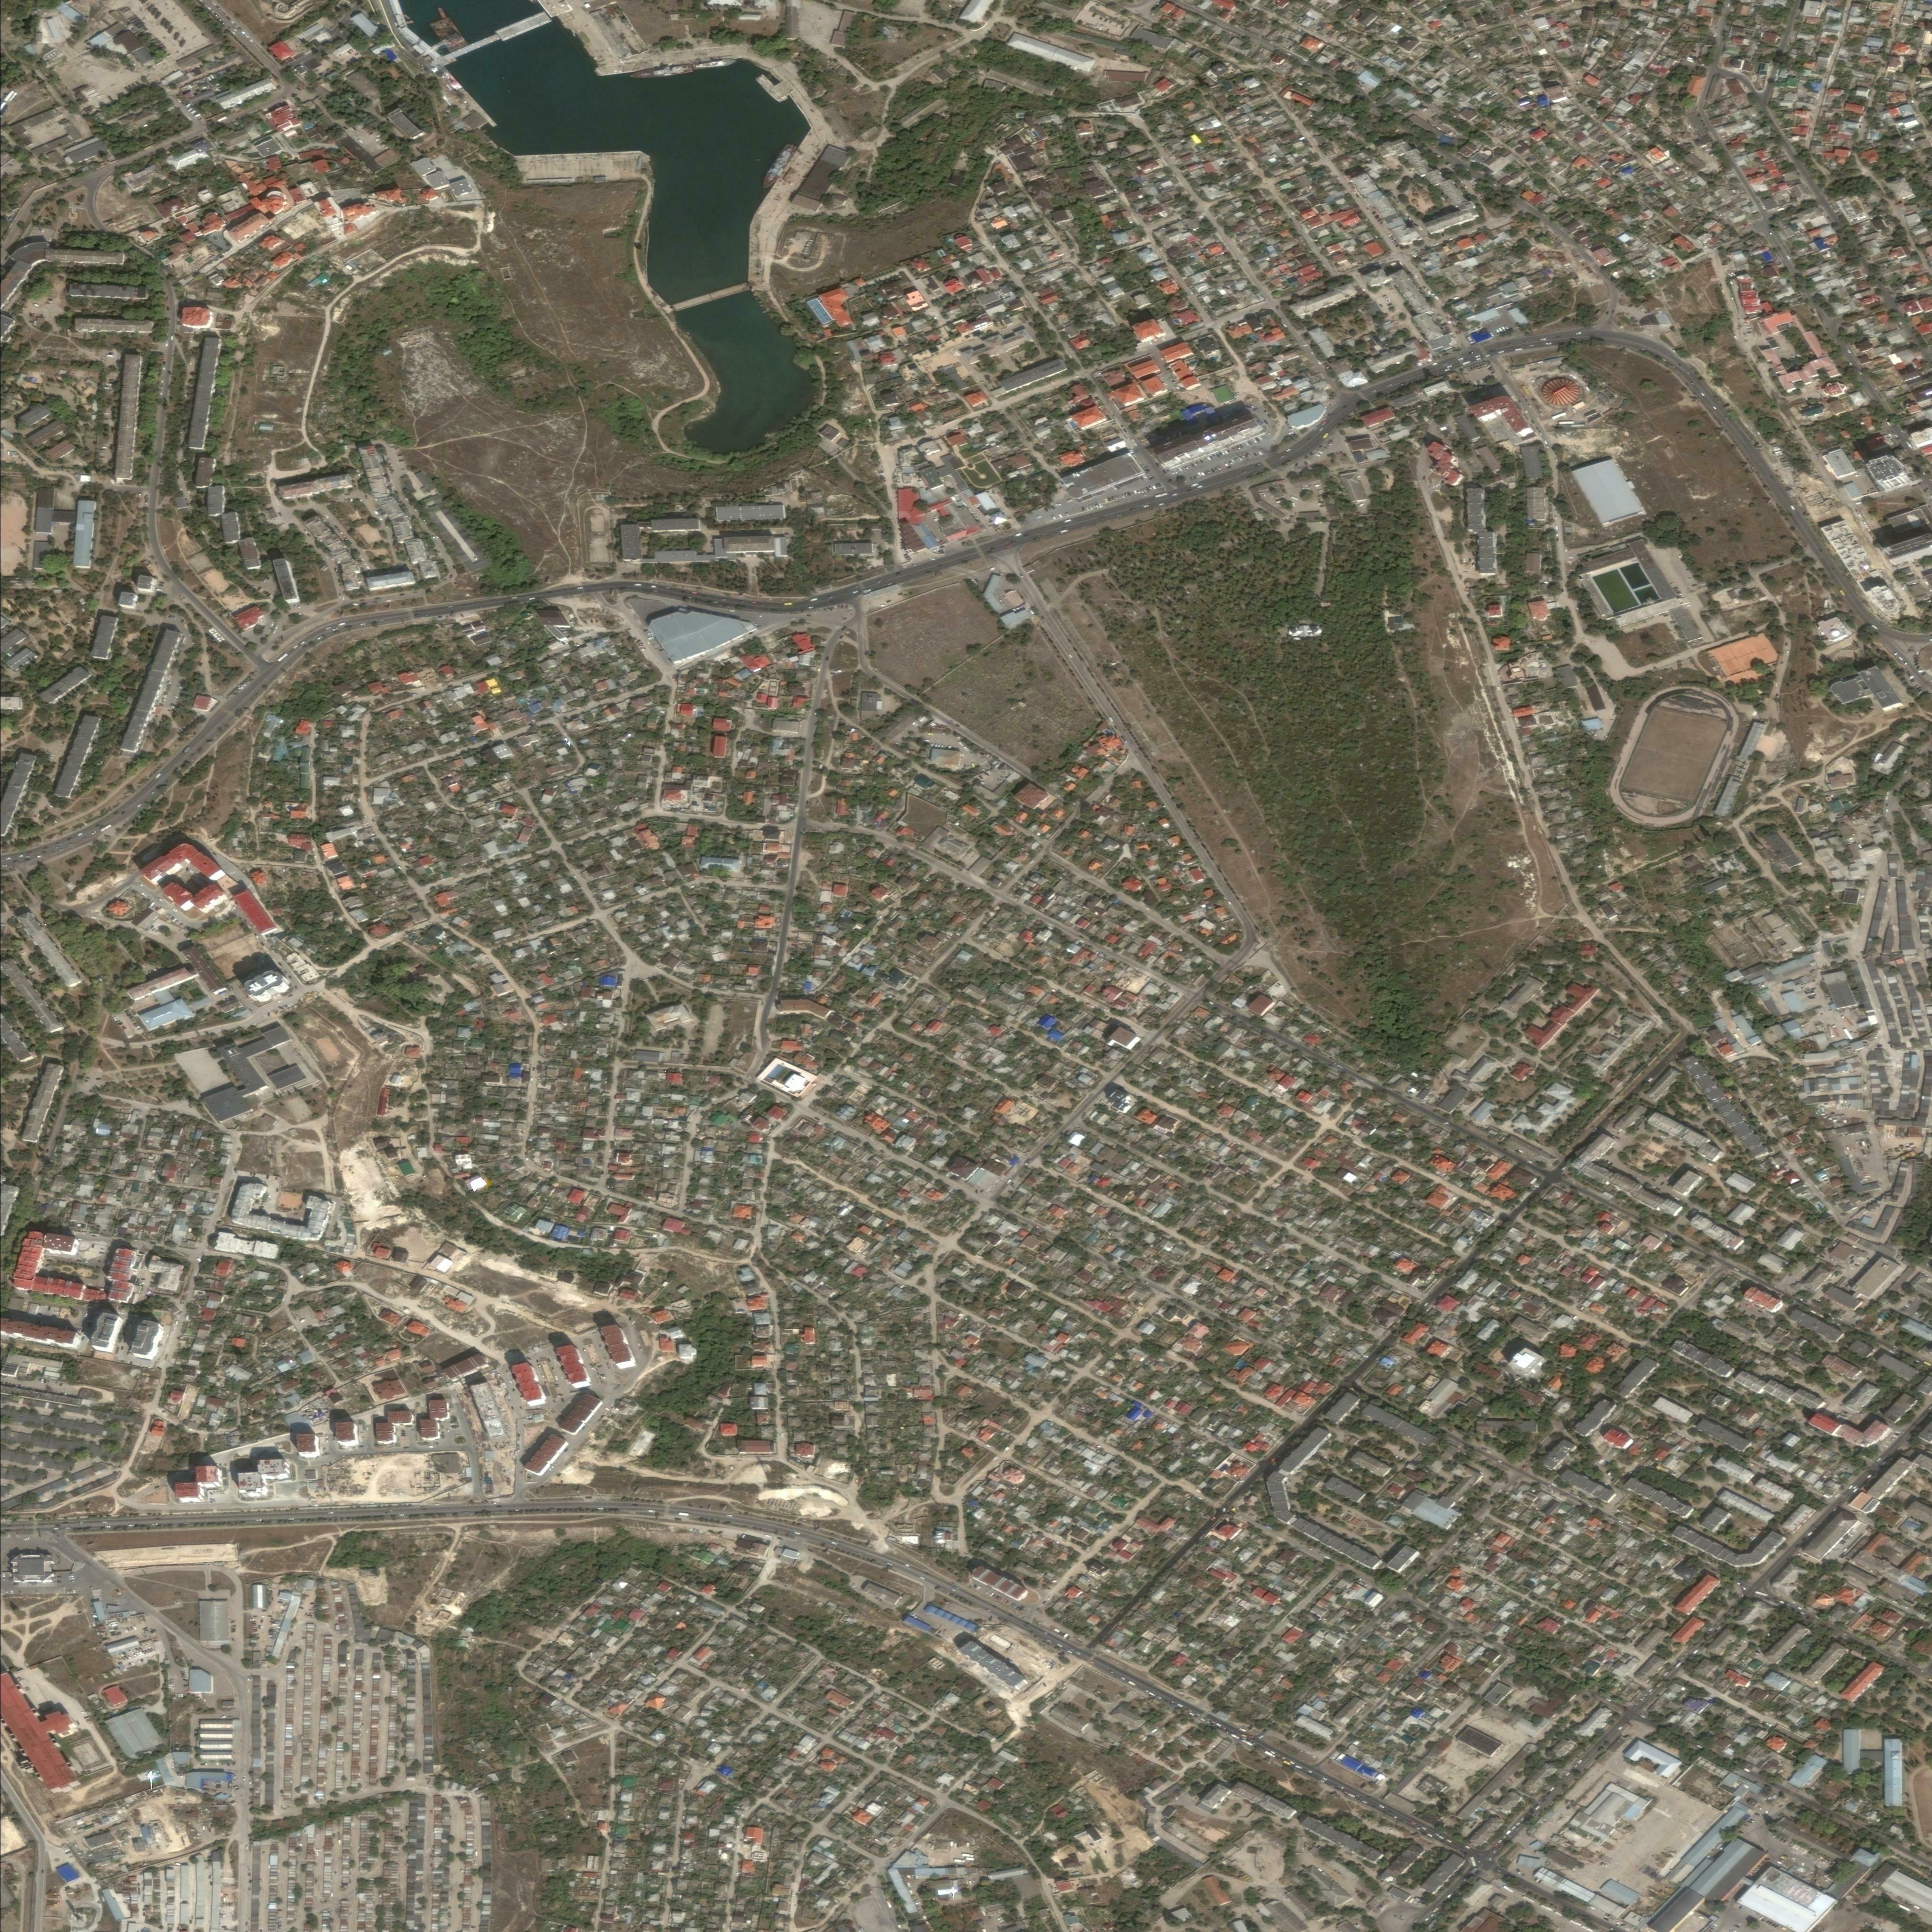harbor: (753, 69, 796, 103)
ship: (759, 142, 798, 192), (429, 18, 471, 57), (628, 64, 693, 81), (693, 58, 737, 71), (437, 7, 447, 19)
